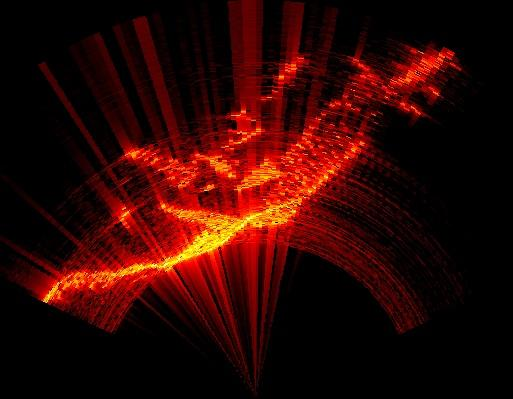shipwreck: (46, 50, 450, 300)
